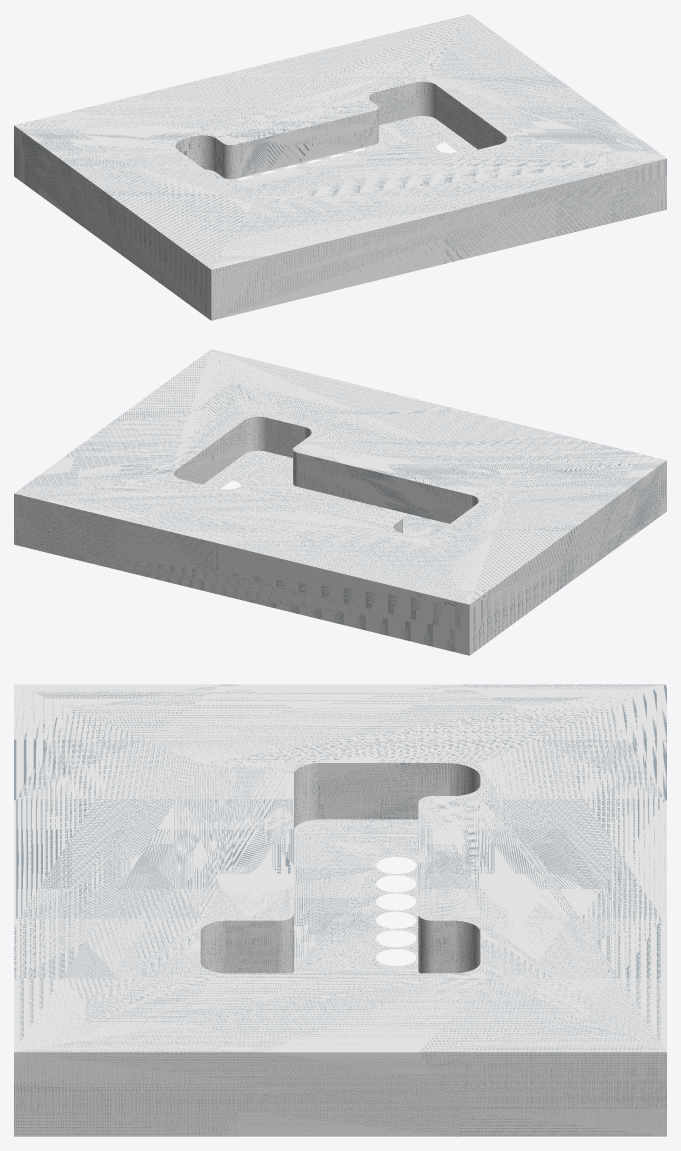
Rendered from _Tutorial 4 (dae).dae.
3 renders of one model, top to bottom at view 1: azimuth 30°, elevation 25°; view 2: azimuth 150°, elevation 25°; view 3: azimuth 270°, elevation 25°, orthographic. The views are drawn at different scales.
Visible parts, largest first — view 1: SketchUp (×2); view 2: SketchUp (×2); view 3: SketchUp (×2).
Boxes of the visible parts, x1=… form: SketchUp (×2): x1=14, y1=14, x2=666, y2=320; SketchUp (×2): x1=14, y1=349, x2=666, y2=655; SketchUp (×2): x1=14, y1=684, x2=666, y2=1136.
Bounding box in the file's own units: 1102 × 827 × 118.
